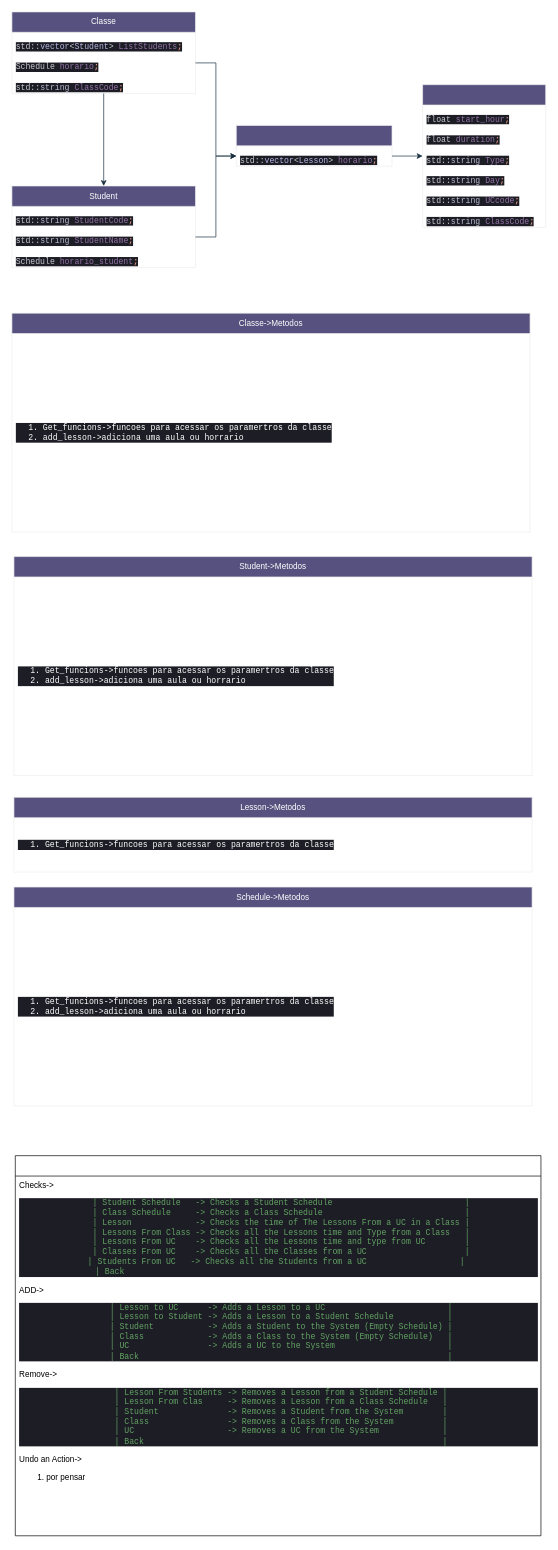
Some shapes in this 558 by 1550 pixel diagram are drawn without their labels. Here are the shapes that lost their labels. From the top down, the box of each, then its label:
(236, 125, 392, 166): Schedule
(422, 84, 546, 227): Lesson
(15, 1155, 541, 1536): Users
